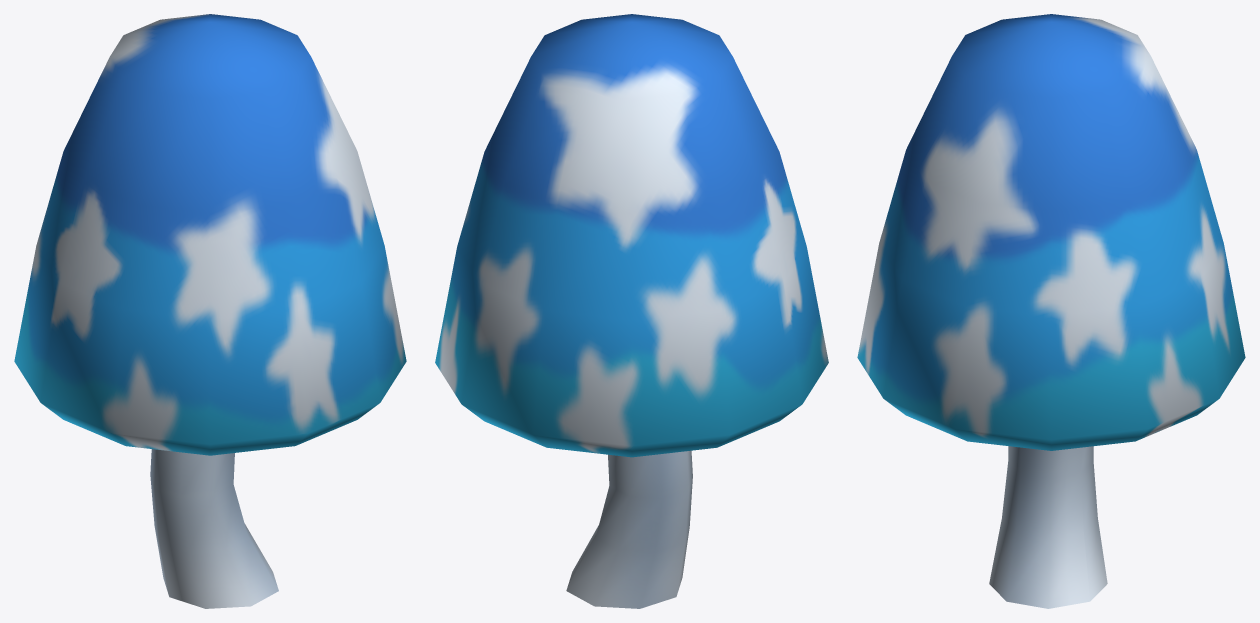
File: BG1-2Boss.fbx
The picture shows the model from 3 angles, left to right: view 1: azimuth 30°, elevation 25°; view 2: azimuth 150°, elevation 25°; view 3: azimuth 270°, elevation 25°; orthographic projection.
Visible parts, largest first — view 1: Cylinder008; view 2: Cylinder008; view 3: Cylinder008.
Part boxes in pixels (x1=…): Cylinder008: x1=14, y1=14, x2=406, y2=608; Cylinder008: x1=435, y1=14, x2=828, y2=608; Cylinder008: x1=857, y1=14, x2=1245, y2=608.
Bounding box in the file's own units: 27.47 × 43.52 × 27.47.
1 material, 1 textured.
